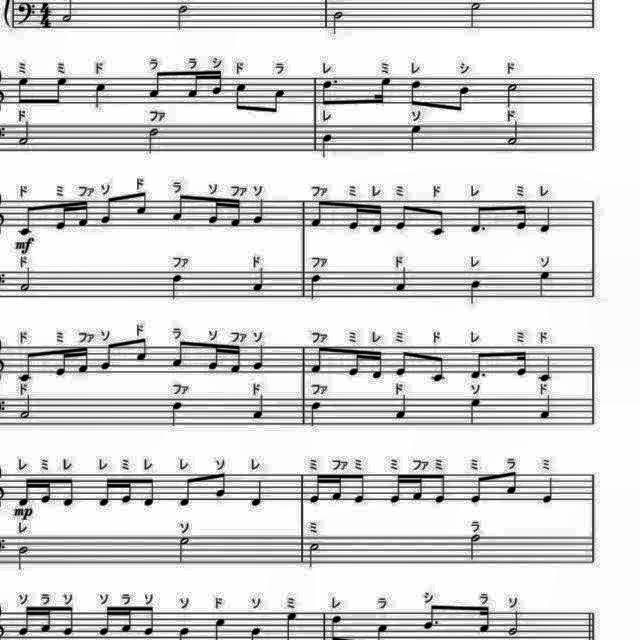Bass-clef: (14, 0, 36, 26)
Eighth-note: (266, 86, 290, 118), (418, 600, 442, 632), (468, 348, 492, 380), (17, 348, 38, 384), (51, 73, 73, 107), (145, 68, 167, 102), (451, 84, 474, 116), (469, 202, 491, 235), (470, 472, 490, 508), (16, 202, 36, 238), (318, 77, 340, 109), (232, 81, 252, 115), (180, 476, 200, 510), (14, 75, 34, 108), (392, 346, 412, 378), (428, 352, 448, 384), (172, 338, 192, 370), (407, 78, 427, 110), (351, 470, 369, 504), (140, 606, 158, 640), (99, 195, 118, 227), (500, 468, 520, 498), (428, 208, 448, 238), (60, 607, 78, 640), (61, 476, 79, 509), (99, 341, 117, 374), (140, 476, 158, 509), (395, 202, 413, 234), (310, 344, 328, 376), (309, 198, 327, 230), (211, 471, 229, 502), (432, 470, 448, 504), (172, 194, 190, 224), (133, 336, 151, 364), (134, 190, 150, 218)
Half-note: (175, 533, 193, 565), (144, 126, 162, 158), (503, 81, 522, 111), (174, 1, 192, 32), (469, 534, 487, 564), (14, 544, 31, 574), (504, 609, 522, 637), (465, 0, 483, 28), (16, 394, 34, 422), (330, 8, 348, 36), (305, 542, 323, 570), (18, 266, 36, 294), (15, 120, 33, 148), (504, 120, 520, 148), (60, 0, 78, 24)
Quarter-note: (538, 474, 558, 506), (534, 352, 554, 382), (249, 478, 267, 508), (408, 124, 426, 154), (465, 395, 483, 425), (92, 82, 111, 110), (536, 204, 552, 236), (393, 266, 411, 294), (393, 392, 411, 420), (536, 394, 554, 422), (249, 394, 267, 422), (305, 272, 323, 300), (249, 266, 267, 294), (534, 270, 552, 298), (168, 274, 186, 302), (250, 343, 266, 373), (250, 197, 266, 227), (319, 132, 336, 160), (170, 399, 187, 427), (466, 278, 482, 306), (306, 400, 322, 428)
Sixteenth-note: (372, 74, 394, 106), (182, 69, 202, 101), (15, 477, 35, 508), (385, 473, 403, 507), (55, 200, 73, 234), (204, 342, 223, 374), (55, 346, 73, 379), (95, 476, 113, 509), (346, 201, 364, 233), (368, 201, 384, 235), (208, 70, 226, 100), (205, 197, 223, 227), (477, 607, 495, 637), (308, 471, 324, 504), (74, 344, 90, 376), (74, 198, 90, 230), (18, 606, 34, 638), (96, 608, 112, 640), (516, 346, 532, 378), (368, 348, 384, 380), (346, 347, 362, 379), (230, 342, 246, 374), (228, 196, 244, 228), (118, 606, 134, 636), (38, 606, 54, 636), (329, 473, 345, 503), (411, 473, 427, 503), (118, 476, 134, 506), (514, 202, 530, 232), (38, 477, 54, 507)
